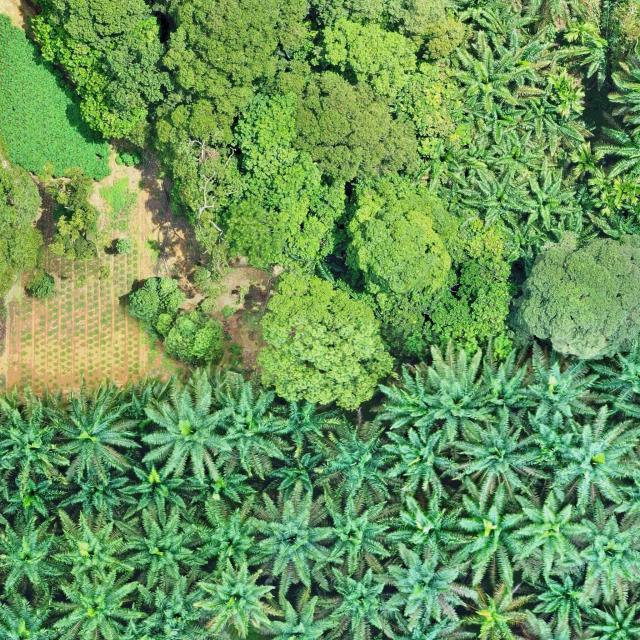Tree: (168, 86, 350, 273), (255, 267, 398, 415), (27, 0, 156, 140), (157, 0, 320, 108), (519, 237, 640, 361), (344, 168, 460, 296), (247, 478, 349, 602), (34, 377, 144, 486), (304, 70, 413, 177), (547, 398, 640, 514), (138, 379, 238, 486), (450, 412, 556, 511), (381, 539, 483, 631), (310, 412, 403, 510), (317, 13, 424, 95), (307, 487, 401, 579), (506, 485, 598, 577), (179, 485, 268, 577), (113, 503, 208, 589), (214, 385, 295, 483), (453, 481, 528, 586), (1, 383, 72, 490), (421, 335, 498, 431), (192, 557, 281, 640), (314, 560, 403, 640), (378, 420, 466, 500), (388, 491, 482, 565), (572, 504, 640, 606), (524, 341, 602, 426), (50, 505, 135, 583), (52, 566, 141, 640), (37, 162, 102, 262), (516, 560, 598, 635), (0, 510, 66, 599), (448, 574, 536, 640), (452, 165, 537, 231), (448, 42, 522, 114), (473, 348, 540, 423), (130, 576, 207, 640), (116, 458, 188, 526), (511, 165, 578, 232), (57, 463, 139, 516), (517, 401, 578, 472), (262, 398, 344, 448), (376, 365, 434, 434), (0, 470, 71, 522), (161, 308, 225, 364), (261, 445, 326, 495), (127, 276, 183, 331), (488, 129, 544, 177), (552, 66, 585, 125), (568, 140, 605, 185), (115, 236, 134, 254)
